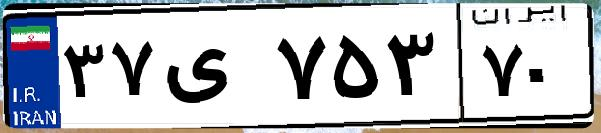0: (525, 38, 570, 115)
3: (385, 28, 445, 110), (57, 26, 110, 100)
5: (330, 28, 385, 110)
7: (270, 28, 330, 110), (475, 38, 525, 113), (110, 28, 158, 98)
ی: (158, 20, 270, 120)
